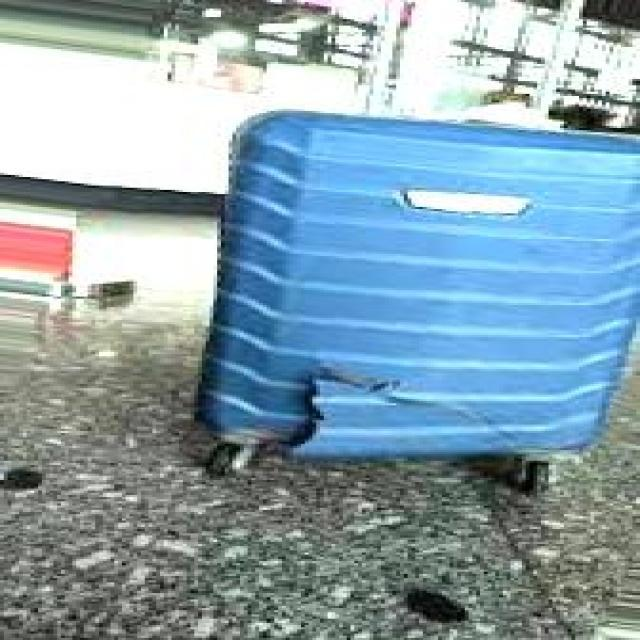Damage-bag: (260, 368, 548, 458)
